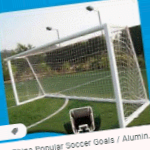goals: (6, 22, 149, 126)
